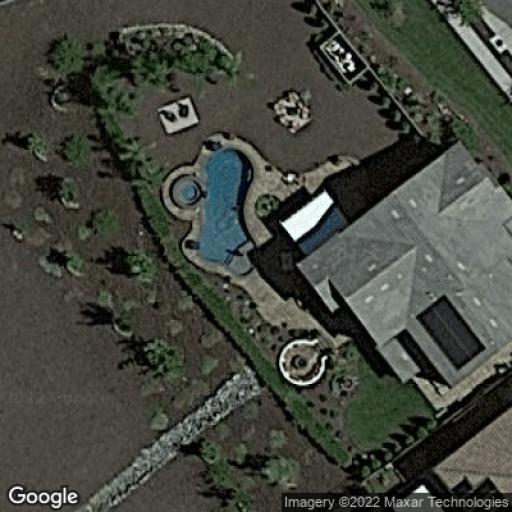solar-panel: (416, 293, 486, 371), (446, 471, 502, 496)
